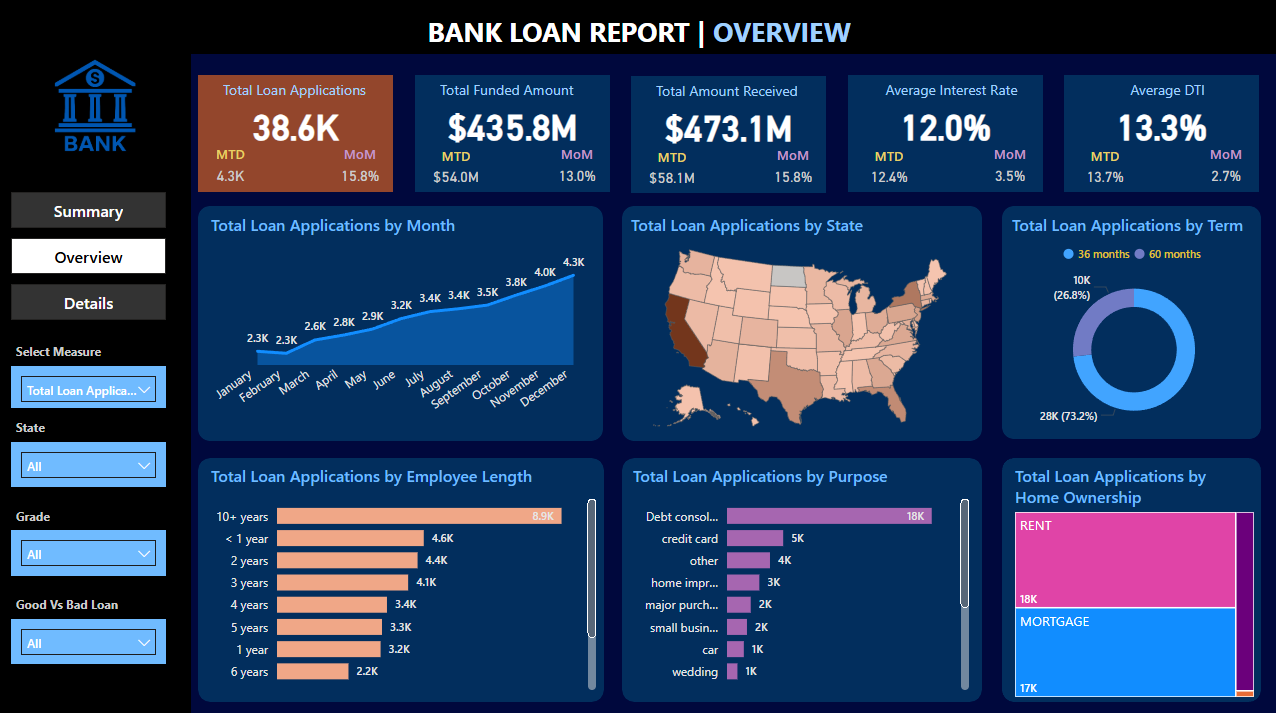

The dashboard page shown, as its layout file describes it:
{"tool":"powerbi","page":{"name":"Overview","canvas":[1280,720],"ordinal":1},"visuals":[{"type":"shape","box":[0,0,1280,55.4],"z":0},{"type":"shape","box":[0,55.4,191.6,664.3],"z":1000},{"type":"textbox","box":[413.4,8.8,453.3,46.7],"z":2000},{"type":"group","id":"g1","title":"Group 1","box":[199.4,75.9,194.5,116.7],"z":3000},{"type":"shape","box":[199.4,75.9,194.5,116.7],"z":3000,"group":"g1"},{"type":"shape","box":[415.8,75.9,194.5,116.7],"z":3000,"group":"g2"},{"type":"shape","box":[848.6,75.9,194.5,116.7],"z":3000,"group":"g4"},{"type":"shape","box":[1065,75.9,194.5,116.7],"z":3000,"group":"g5"},{"type":"shape","box":[632.2,76.8,194.5,116.7],"z":3000,"group":"g3"},{"type":"group","id":"g2","title":"Group 1","box":[415.8,75.9,194.5,116.7],"z":4000},{"type":"card","fields":{"Values":["public loan_data.Total Loan Applications"]},"box":[207.2,91.5,179,68.1],"z":4000,"group":"g1"},{"type":"card","fields":{"Values":["public loan_data.Total Funded Amount"]},"box":[423.6,91.5,179,68.1],"z":4000,"group":"g2"},{"type":"card","fields":{"Values":["public loan_data.Average Interest rate"]},"box":[856.4,91.5,179,68.1],"z":4000,"group":"g4"},{"type":"card","fields":{"Values":["public loan_data.Average DTI"]},"box":[1072.8,91.5,179,68.1],"z":4000,"group":"g5"},{"type":"card","fields":{"Values":["public loan_data.Total Amount received"]},"box":[640,92.4,179,68.1],"z":4000,"group":"g3"},{"type":"textbox","box":[219.8,75.9,166.3,30.2],"z":5000,"group":"g1"},{"type":"textbox","box":[436.2,75.9,166.3,30.2],"z":5000,"group":"g2"},{"type":"textbox","box":[869,75.9,166.3,30.2],"z":5000,"group":"g4"},{"type":"textbox","box":[1085.4,75.9,166.3,30.2],"z":5000,"group":"g5"},{"type":"group","id":"g3","title":"Group 1","box":[632.2,76.8,194.5,116.7],"z":5000},{"type":"textbox","box":[652.6,76.8,166.3,30.2],"z":5000,"group":"g3"},{"type":"shape","box":[199.4,207.2,405,235],"z":5000,"group":"g6"},{"type":"shape","box":[199.4,459.1,405.6,244.1],"z":5000,"group":"g9"},{"type":"group","id":"g4","title":"Group 1","box":[848.6,75.9,194.5,116.7],"z":6000},{"type":"card","title":"MTD","fields":{"Values":["public loan_data.MTD Loan Application"]},"box":[207.2,145.9,49.6,46.7],"z":6000,"group":"g1"},{"type":"card","title":"MTD","fields":{"Values":["public loan_data.MTD Funded Amount"]},"box":[427.1,148,59.3,44.7],"z":6000,"group":"g2"},{"type":"card","title":"MTD","fields":{"Values":["public loan_data.MTD Avg Interest Rate"]},"box":[859.9,148,59.3,44.7],"z":6000,"group":"g4"},{"type":"card","title":"MTD","fields":{"Values":["public loan_data.MTD Avg dti"]},"box":[1076.3,148,59.3,44.7],"z":6000,"group":"g5"},{"type":"card","title":"MTD","fields":{"Values":["public loan_data.MTD Received Amount"]},"box":[643.5,148.9,59.3,44.7],"z":6000,"group":"g3"},{"type":"shape","box":[623.4,207.2,360,235.4],"z":6000,"group":"g7"},{"type":"shape","box":[1002.8,207.2,258.7,233.4],"z":6000,"group":"g8"},{"type":"shape","box":[623.5,459.1,359.9,244.1],"z":6000,"group":"g10"},{"type":"shape","box":[1002.8,459.1,258.7,244.1],"z":6000,"group":"g11"},{"type":"group","id":"g5","title":"Group 1","box":[1065,75.9,194.5,116.7],"z":7000},{"type":"card","title":"MoM","fields":{"Values":["public loan_data.MOM Loan Application"]},"box":[336.5,145.9,49.6,46.7],"z":7000,"group":"g1"},{"type":"card","title":"MoM","fields":{"Values":["public loan_data.MOM Funded Amount"]},"box":[552.9,145.9,49.6,46.7],"z":7000,"group":"g2"},{"type":"card","title":"MoM","fields":{"Values":["public loan_data.MOM Avg Interest Rate"]},"box":[985.7,145.9,49.6,46.7],"z":7000,"group":"g4"},{"type":"card","title":"MoM","fields":{"Values":["public loan_data.MOM Avg dti"]},"box":[1202.1,145.9,49.6,46.7],"z":7000,"group":"g5"},{"type":"card","title":"MoM","fields":{"Values":["public loan_data.MOM Received Amount"]},"box":[769.3,146.8,49.6,46.7],"z":7000,"group":"g3"},{"type":"slicer","fields":{"Values":["public loan_data.address_state"]},"box":[11.7,442.6,155.6,45.7],"z":8000},{"type":"textbox","box":[11.7,414.3,60.3,28.2],"z":9000},{"type":"slicer","fields":{"Values":["public loan_data.grade"]},"box":[11.7,531.1,155.6,45.7],"z":10000},{"type":"slicer","fields":{"Values":["public loan_data.Good Vs Bad Loan"]},"box":[11.7,619.6,155.6,45.7],"z":11000},{"type":"textbox","box":[11.7,502.9,60.3,28.2],"z":12000},{"type":"textbox","box":[11.7,591.4,131.3,28.2],"z":13000},{"type":"slicer","fields":{"Values":["Select Measure.Select Measure"]},"box":[11.7,366.7,155.6,42.8],"z":14000},{"type":"textbox","box":[11.7,338.5,122.6,28.2],"z":15000},{"type":"group","id":"g6","title":"Group 2","box":[199.4,207.2,404.6,235.4],"z":16000},{"type":"group","id":"g7","title":"Group 3","box":[623.4,207.2,360,235.4],"z":17000},{"type":"shapeMap","fields":{"Value":["public loan_data.Total Loan Applications"],"Category":["public loan_data.address_state"]},"box":[627.3,215,348.2,227.6],"z":17001,"group":"g7"},{"type":"group","id":"g8","title":"Group 4","box":[1002.8,207.2,258.7,233.4],"z":18000},{"type":"donutChart","fields":{"Y":["public loan_data.Total Loan Applications"],"Category":["public loan_data.term"]},"box":[1007.7,215,253.9,223.7],"z":19000,"group":"g8"},{"type":"group","id":"g9","title":"Group 5","box":[199.4,459.1,405.6,244.1],"z":19000},{"type":"barChart","fields":{"Y":["public loan_data.Total Loan Applications"],"Category":["public loan_data.emp_length"]},"box":[207.2,465.9,394.9,230.5],"z":19002,"group":"g9"},{"type":"barChart","fields":{"Y":["public loan_data.Total Loan Applications"],"Category":["public loan_data.purpose"]},"box":[629.3,465.9,346.3,230.5],"z":19003,"group":"g10"},{"type":"group","id":"g10","title":"Group 6","box":[623.5,459.1,359.9,244.1],"z":20000},{"type":"treemap","fields":{"Values":["public loan_data.Total Loan Applications"],"Group":["public loan_data.home_ownership"]},"box":[1010.6,465.9,249,237.3],"z":20000,"group":"g11"},{"type":"group","id":"g11","title":"Group 7","box":[1002.8,459.1,258.7,244.1],"z":21000},{"type":"pageNavigator","box":[11.7,192.6,155.6,130.3],"z":22000},{"type":"image","box":[30.2,32.1,132.3,149.8],"z":22001},{"type":"areaChart","fields":{"Y":["public loan_data.Total Loan Applications"],"Category":["Date Table.Date.Variation.Date Hierarchy.Month"]},"box":[207.2,215,384.2,215.9],"z":26001,"group":"g6"}]}

Visuals, with their boxes in screenshot pixels (x1, y1, x2, y2), scaled from the page's 1280x720 canvas onto the 1276x713 screenshot:
shape: pyautogui.locateOnScreen(0, 0, 1275, 55)
shape: pyautogui.locateOnScreen(0, 55, 191, 712)
textbox: pyautogui.locateOnScreen(412, 9, 864, 55)
"Group 1" group: pyautogui.locateOnScreen(199, 75, 393, 191)
shape: pyautogui.locateOnScreen(199, 75, 393, 191)
shape: pyautogui.locateOnScreen(415, 75, 608, 191)
shape: pyautogui.locateOnScreen(846, 75, 1040, 191)
shape: pyautogui.locateOnScreen(1062, 75, 1256, 191)
shape: pyautogui.locateOnScreen(630, 76, 824, 192)
"Group 1" group: pyautogui.locateOnScreen(415, 75, 608, 191)
card - public loan_data.Total Loan Applications: pyautogui.locateOnScreen(207, 91, 385, 158)
card - public loan_data.Total Funded Amount: pyautogui.locateOnScreen(422, 91, 601, 158)
card - public loan_data.Average Interest rate: pyautogui.locateOnScreen(854, 91, 1032, 158)
card - public loan_data.Average DTI: pyautogui.locateOnScreen(1069, 91, 1248, 158)
card - public loan_data.Total Amount received: pyautogui.locateOnScreen(638, 92, 816, 159)
textbox: pyautogui.locateOnScreen(219, 75, 385, 105)
textbox: pyautogui.locateOnScreen(435, 75, 601, 105)
textbox: pyautogui.locateOnScreen(866, 75, 1032, 105)
textbox: pyautogui.locateOnScreen(1082, 75, 1248, 105)
"Group 1" group: pyautogui.locateOnScreen(630, 76, 824, 192)
textbox: pyautogui.locateOnScreen(651, 76, 816, 106)
shape: pyautogui.locateOnScreen(199, 205, 603, 438)
shape: pyautogui.locateOnScreen(199, 455, 603, 696)
"Group 1" group: pyautogui.locateOnScreen(846, 75, 1040, 191)
"MTD" card: pyautogui.locateOnScreen(207, 144, 256, 191)
"MTD" card: pyautogui.locateOnScreen(426, 147, 485, 191)
"MTD" card: pyautogui.locateOnScreen(857, 147, 916, 191)
"MTD" card: pyautogui.locateOnScreen(1073, 147, 1132, 191)
"MTD" card: pyautogui.locateOnScreen(641, 147, 701, 192)
shape: pyautogui.locateOnScreen(621, 205, 980, 438)
shape: pyautogui.locateOnScreen(1000, 205, 1258, 436)
shape: pyautogui.locateOnScreen(622, 455, 980, 696)
shape: pyautogui.locateOnScreen(1000, 455, 1258, 696)
"Group 1" group: pyautogui.locateOnScreen(1062, 75, 1256, 191)
"MoM" card: pyautogui.locateOnScreen(335, 144, 385, 191)
"MoM" card: pyautogui.locateOnScreen(551, 144, 601, 191)
"MoM" card: pyautogui.locateOnScreen(983, 144, 1032, 191)
"MoM" card: pyautogui.locateOnScreen(1198, 144, 1248, 191)
"MoM" card: pyautogui.locateOnScreen(767, 145, 816, 192)
slicer - public loan_data.address_state: pyautogui.locateOnScreen(12, 438, 167, 484)
textbox: pyautogui.locateOnScreen(12, 410, 72, 438)
slicer - public loan_data.grade: pyautogui.locateOnScreen(12, 526, 167, 571)
slicer - public loan_data.Good Vs Bad Loan: pyautogui.locateOnScreen(12, 614, 167, 659)
textbox: pyautogui.locateOnScreen(12, 498, 72, 526)
textbox: pyautogui.locateOnScreen(12, 586, 143, 614)
slicer - Select Measure.Select Measure: pyautogui.locateOnScreen(12, 363, 167, 406)
textbox: pyautogui.locateOnScreen(12, 335, 134, 363)
"Group 2" group: pyautogui.locateOnScreen(199, 205, 602, 438)
"Group 3" group: pyautogui.locateOnScreen(621, 205, 980, 438)
shapeMap - public loan_data.Total Loan Applications x public loan_data.address_state: pyautogui.locateOnScreen(625, 213, 972, 438)
"Group 4" group: pyautogui.locateOnScreen(1000, 205, 1258, 436)
donutChart - public loan_data.Total Loan Applications x public loan_data.term: pyautogui.locateOnScreen(1005, 213, 1258, 434)
"Group 5" group: pyautogui.locateOnScreen(199, 455, 603, 696)
barChart - public loan_data.Total Loan Applications x public loan_data.emp_length: pyautogui.locateOnScreen(207, 461, 600, 690)
barChart - public loan_data.Total Loan Applications x public loan_data.purpose: pyautogui.locateOnScreen(627, 461, 973, 690)
"Group 6" group: pyautogui.locateOnScreen(622, 455, 980, 696)
treemap - public loan_data.Total Loan Applications x public loan_data.home_ownership: pyautogui.locateOnScreen(1007, 461, 1256, 696)
"Group 7" group: pyautogui.locateOnScreen(1000, 455, 1258, 696)
pageNavigator: pyautogui.locateOnScreen(12, 191, 167, 320)
image: pyautogui.locateOnScreen(30, 32, 162, 180)
areaChart - public loan_data.Total Loan Applications x Date Table.Date.Variation.Date Hierarchy.Month: pyautogui.locateOnScreen(207, 213, 590, 427)
